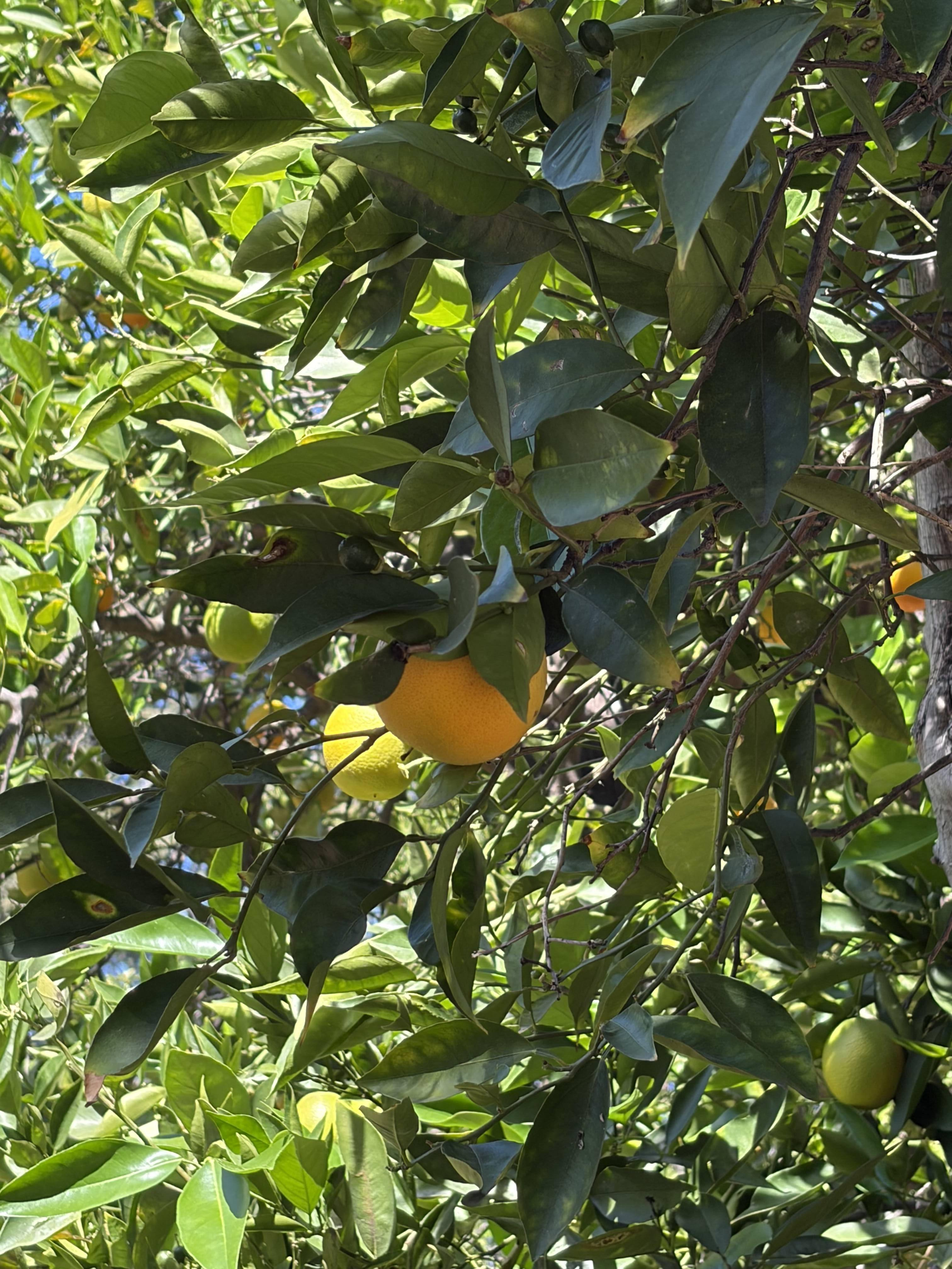orange: (376, 650, 546, 766), (323, 704, 424, 801), (822, 1018, 905, 1109), (203, 602, 274, 663), (17, 844, 64, 898), (244, 699, 292, 749), (296, 1091, 339, 1145), (890, 552, 925, 613), (757, 601, 790, 648), (123, 296, 152, 329), (93, 572, 113, 612), (94, 293, 116, 329), (13, 386, 22, 405)
